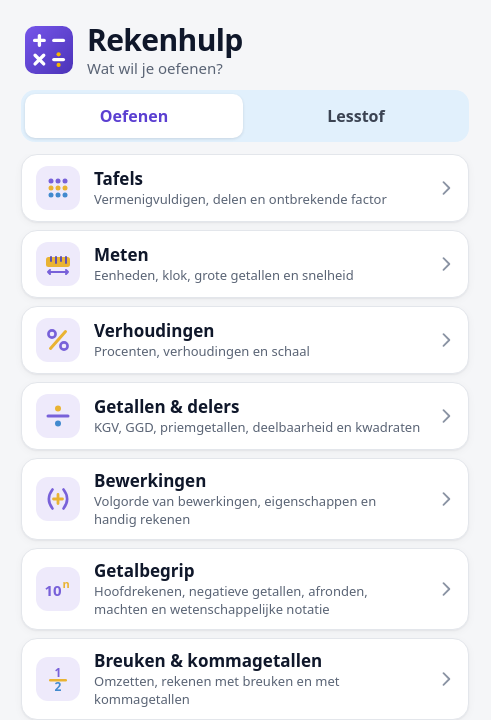
it: App › walks from a set via setup to the first exercise
The width and height of the screenshot is (491, 720).
Click the button "Tafels Vermenigvuldigen, delen en ontbrekende factor" at (245, 188), box [21,154,469,222]
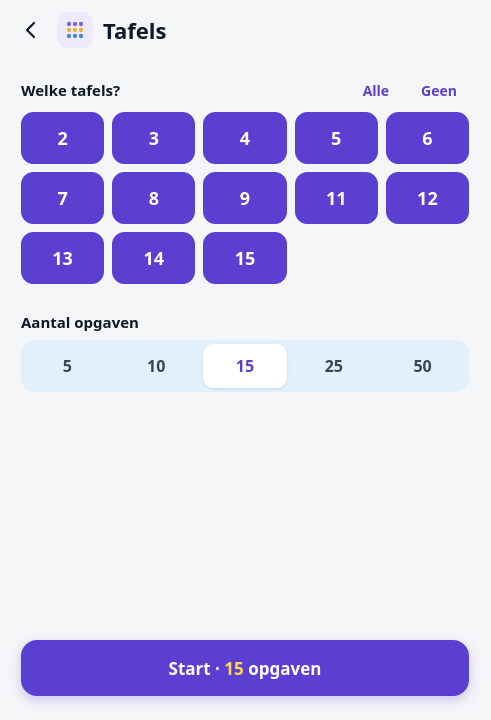
Expected: the heading "Tafels" is shown, [103,16,166,44]
Expected: the heading "Welke tafels?" is shown, [21,80,120,100]
Click the button "Start · 15 opgaven" at (245, 668), box [21,640,469,696]
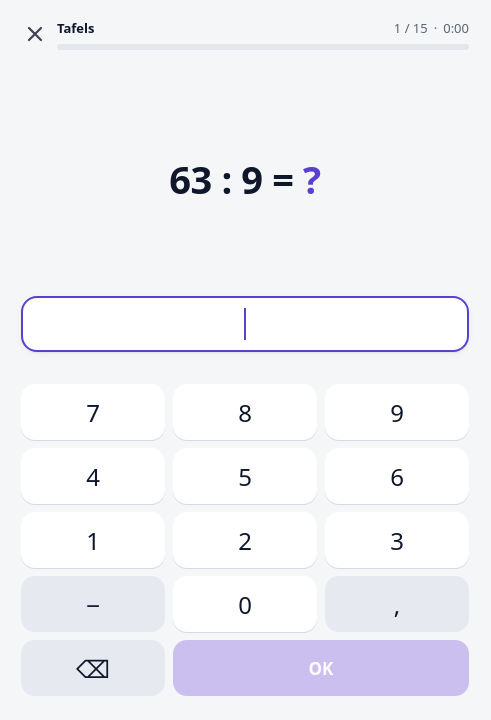
Expected: the text "1 / 15" is shown, [394,18,428,38]
